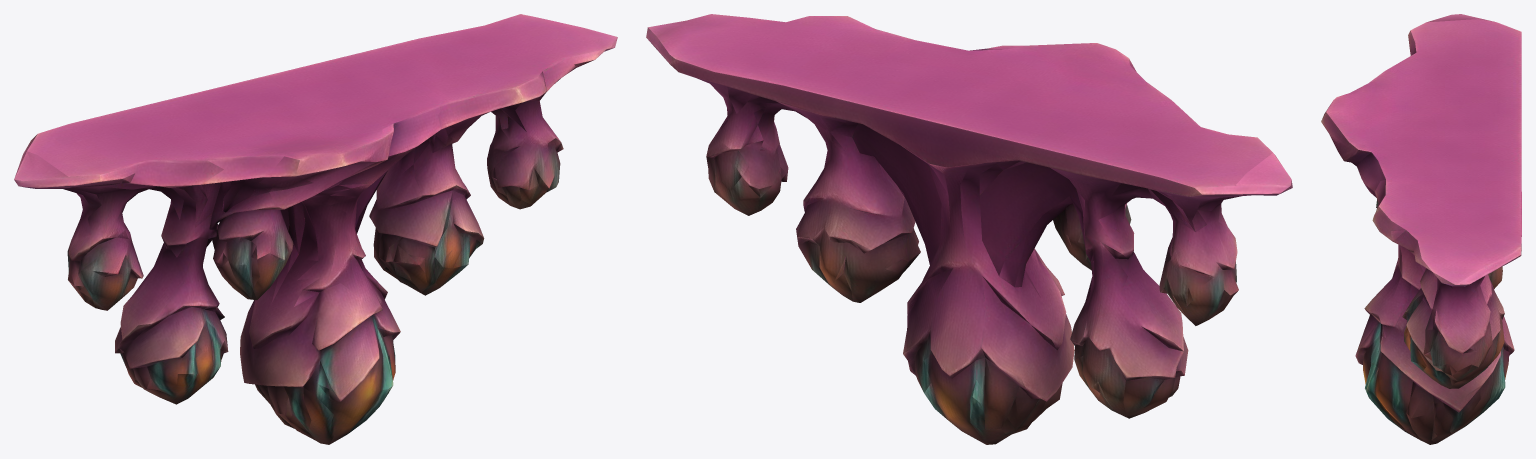
The model's file is 03-ceiling-hive-cluster.glb.
3 renders of one model, left to right at view 1: azimuth 30°, elevation 25°; view 2: azimuth 150°, elevation 25°; view 3: azimuth 270°, elevation 25°, orthographic. The views are drawn at different scales.
Visible parts, largest first — view 1: SM_CeilingHiveCluster; view 2: SM_CeilingHiveCluster; view 3: SM_CeilingHiveCluster.
Part boxes in pixels (box(x1,y1,x2,y2)): SM_CeilingHiveCluster: box(14, 14, 617, 444); SM_CeilingHiveCluster: box(646, 14, 1292, 444); SM_CeilingHiveCluster: box(1321, 14, 1521, 444).
Bounding box in the file's own units: 1.76 × 0.9586 × 0.5532.
Materials: 1 (1 with a texture image).
